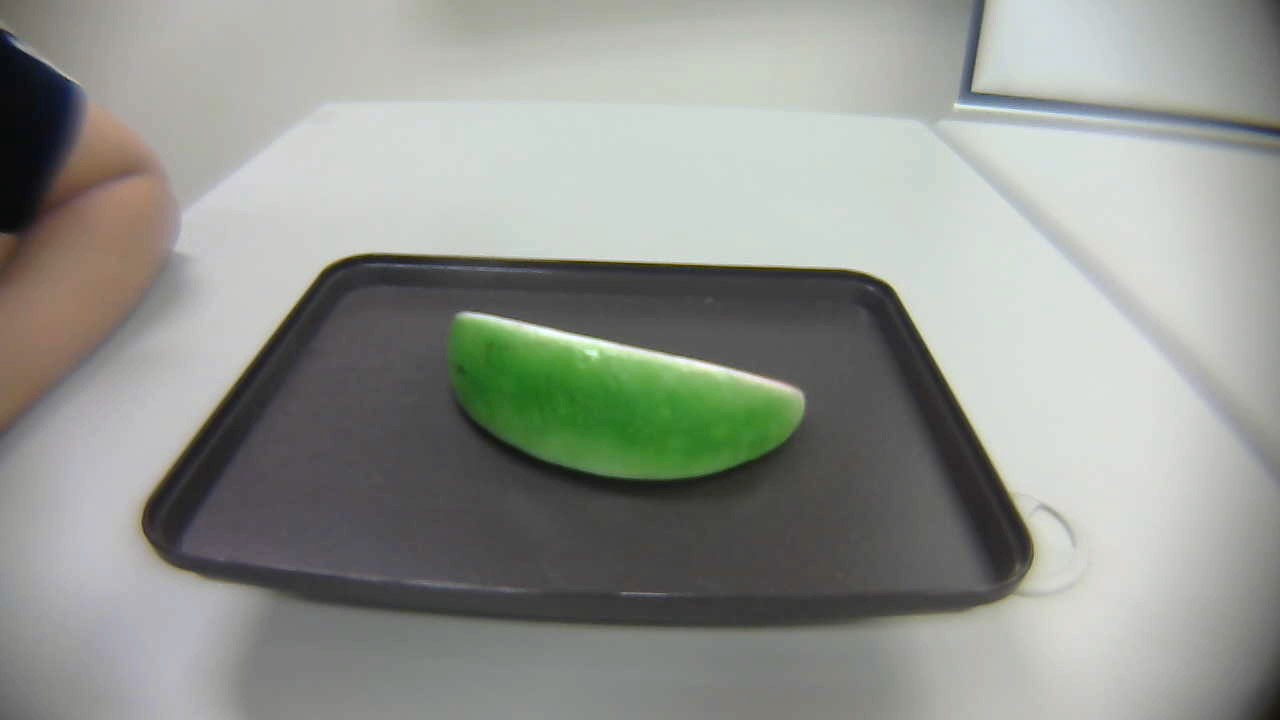water melon: (441, 295, 838, 498)
